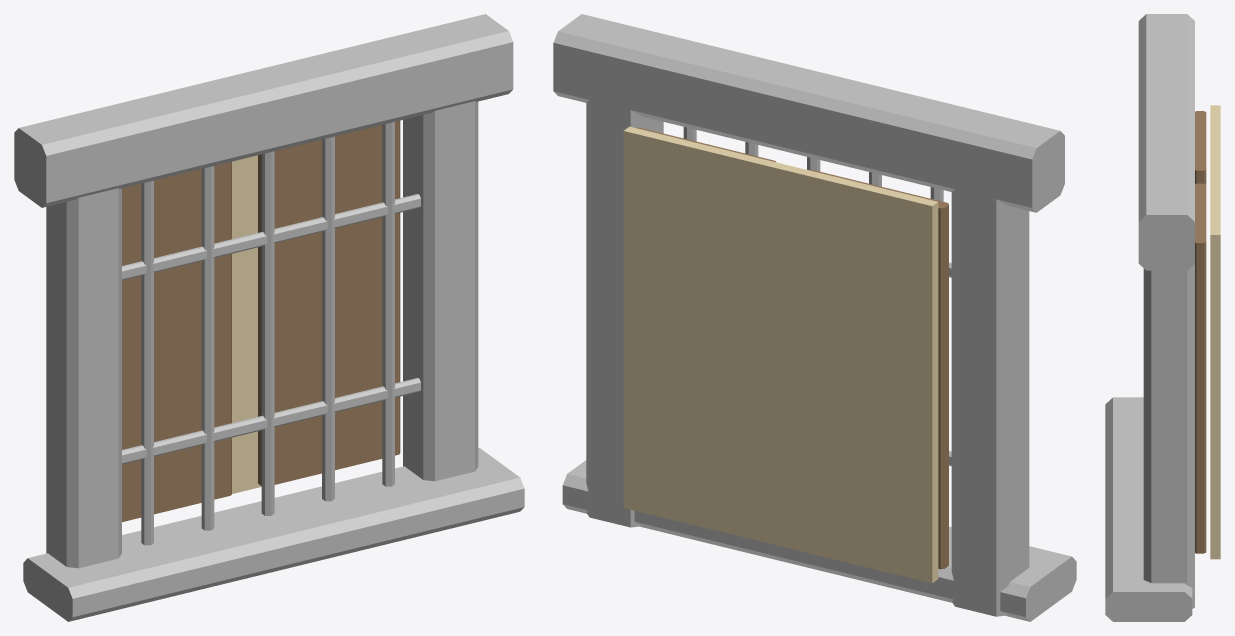
Rendered from barred_window.glb.
The picture shows the model from 3 angles, left to right: view 1: azimuth 30°, elevation 25°; view 2: azimuth 150°, elevation 25°; view 3: azimuth 270°, elevation 25°; orthographic projection. The views are drawn at different scales.
Parts seen in each view (by area): view 1: barred_window; view 2: barred_window; view 3: barred_window.
Boxes of the visible parts, <box> form: barred_window: <box>14,14,524,621</box>; barred_window: <box>553,14,1076,621</box>; barred_window: <box>1105,14,1220,621</box>.
Bounding box in the file's own units: 1.86 × 1.77 × 0.45.
